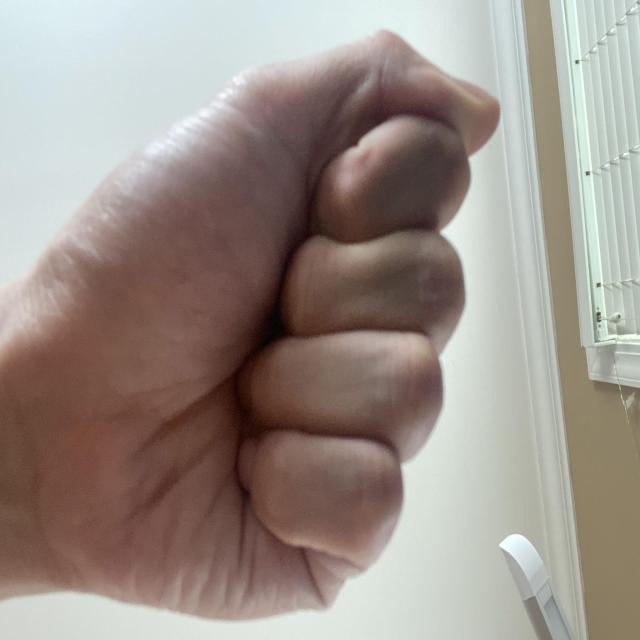A: (175, 174, 628, 640)
